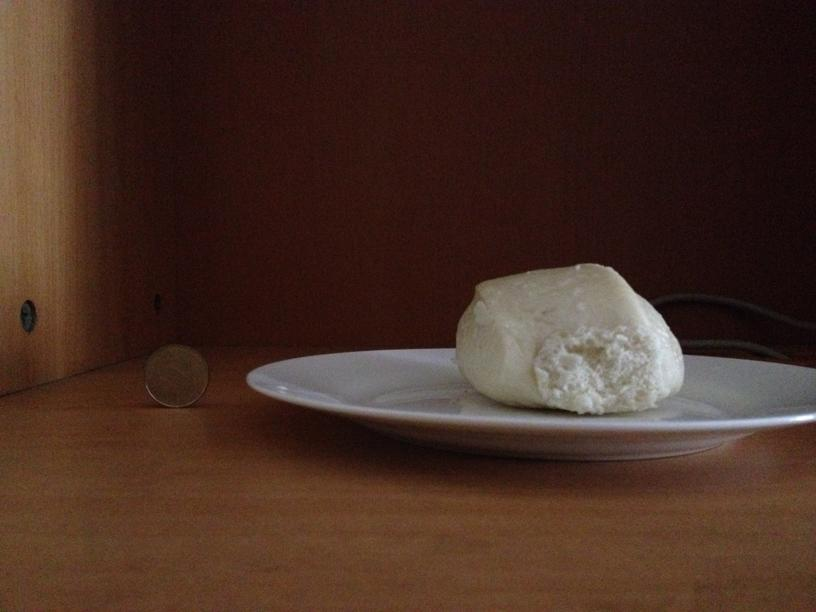bun: (457, 262, 684, 410)
coin: (139, 345, 209, 409)
